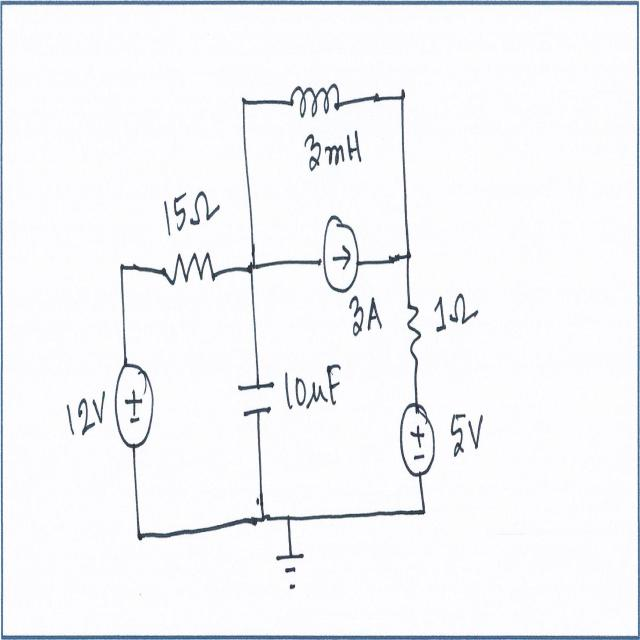capacitor: (236, 379, 280, 425)
current_source: (322, 211, 362, 299)
ground: (272, 550, 310, 594)
inductor: (289, 84, 345, 122)
resistor: (159, 246, 218, 295), (405, 294, 423, 362)
voltage_source: (112, 354, 156, 460), (394, 397, 438, 481)
